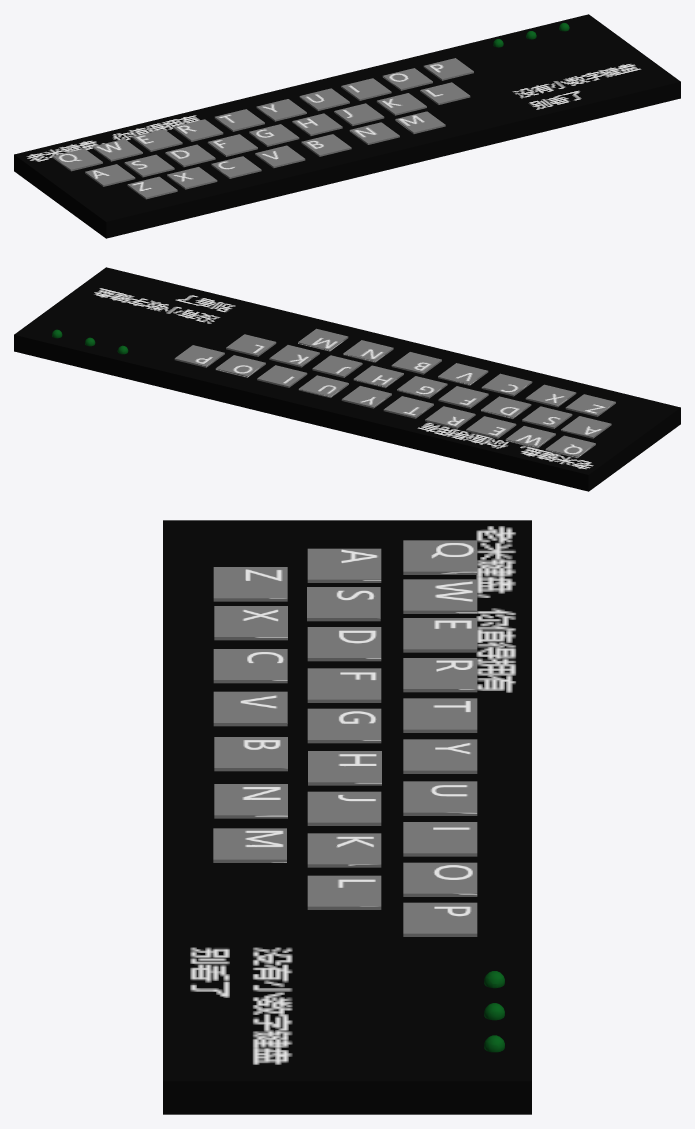
The model's file is keyboardlite.fbx.
The picture shows the model from 3 angles, top to bottom: view 1: azimuth 30°, elevation 25°; view 2: azimuth 150°, elevation 25°; view 3: azimuth 270°, elevation 25°; orthographic projection. The views are drawn at different scales.
Visible parts, largest first — view 1: 立方体, key, Cube.019, Cube.020, Cube.002, Cube.005, Cube.007, Cube.012, Cube.023, Cube.001, Cube.003, Cube.004 (+15 smaller); view 2: 立方体, Cube.018, Cube.005, Cube.006, Cube.007, key, Cube.001, Cube.002, Cube.003, Cube.011, Cube.012, Cube.017 (+15 smaller); view 3: 立方体, Cube.023, Cube.012, key, Cube.002, Cube.003, Cube.004, Cube.005, Cube.011, Cube.015, Cube.017, Cube.024 (+16 smaller).
Part boxes in pixels (x1,y1,x2,y2): 立方体: [14, 14, 680, 238]; key: [132, 129, 182, 151]; Cube.019: [211, 156, 261, 178]; Cube.020: [301, 134, 351, 156]; Cube.002: [214, 109, 264, 131]; Cube.005: [341, 78, 391, 100]; Cube.007: [423, 58, 473, 80]; Cube.012: [249, 124, 299, 146]; Cube.023: [255, 145, 305, 168]; Cube.001: [173, 119, 223, 141]; Cube.003: [256, 99, 306, 121]; Cube.004: [299, 88, 349, 110]; 立方体: [14, 267, 680, 491]; Cube.018: [525, 384, 576, 407]; Cube.005: [257, 365, 307, 387]; Cube.006: [215, 355, 265, 377]; Cube.007: [174, 345, 224, 367]; key: [466, 416, 516, 438]; Cube.001: [425, 406, 475, 428]; Cube.002: [383, 396, 433, 418]; Cube.003: [341, 386, 391, 408]; Cube.011: [438, 386, 488, 408]; Cube.012: [397, 376, 447, 398]; Cube.017: [565, 394, 615, 416]; 立方体: [163, 520, 531, 1114]; Cube.023: [213, 691, 287, 726]; Cube.012: [307, 708, 381, 743]; key: [403, 618, 477, 652]; Cube.002: [403, 698, 477, 732]; Cube.003: [403, 739, 477, 773]; Cube.004: [403, 781, 477, 815]; Cube.005: [403, 822, 477, 856]; Cube.011: [307, 668, 381, 702]; Cube.015: [307, 833, 381, 867]; Cube.017: [213, 567, 287, 601]; Cube.024: [403, 540, 477, 574].
Size of the model in its own units: 3600 by 136 by 1000.
